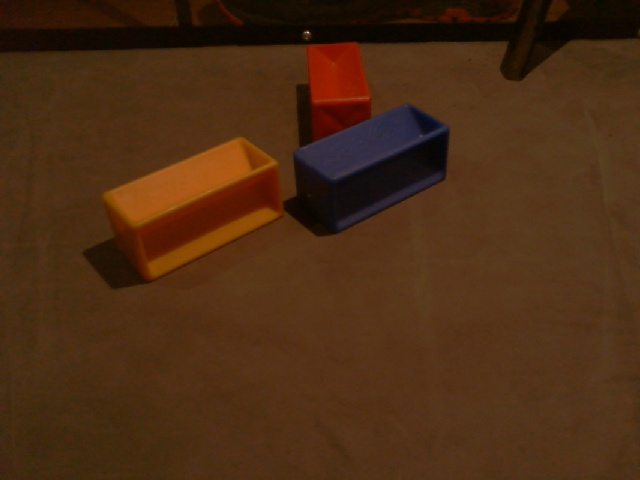BlueSample: (292, 102, 449, 236)
RedSample: (303, 41, 372, 147)
YellowSample: (100, 133, 284, 283)
